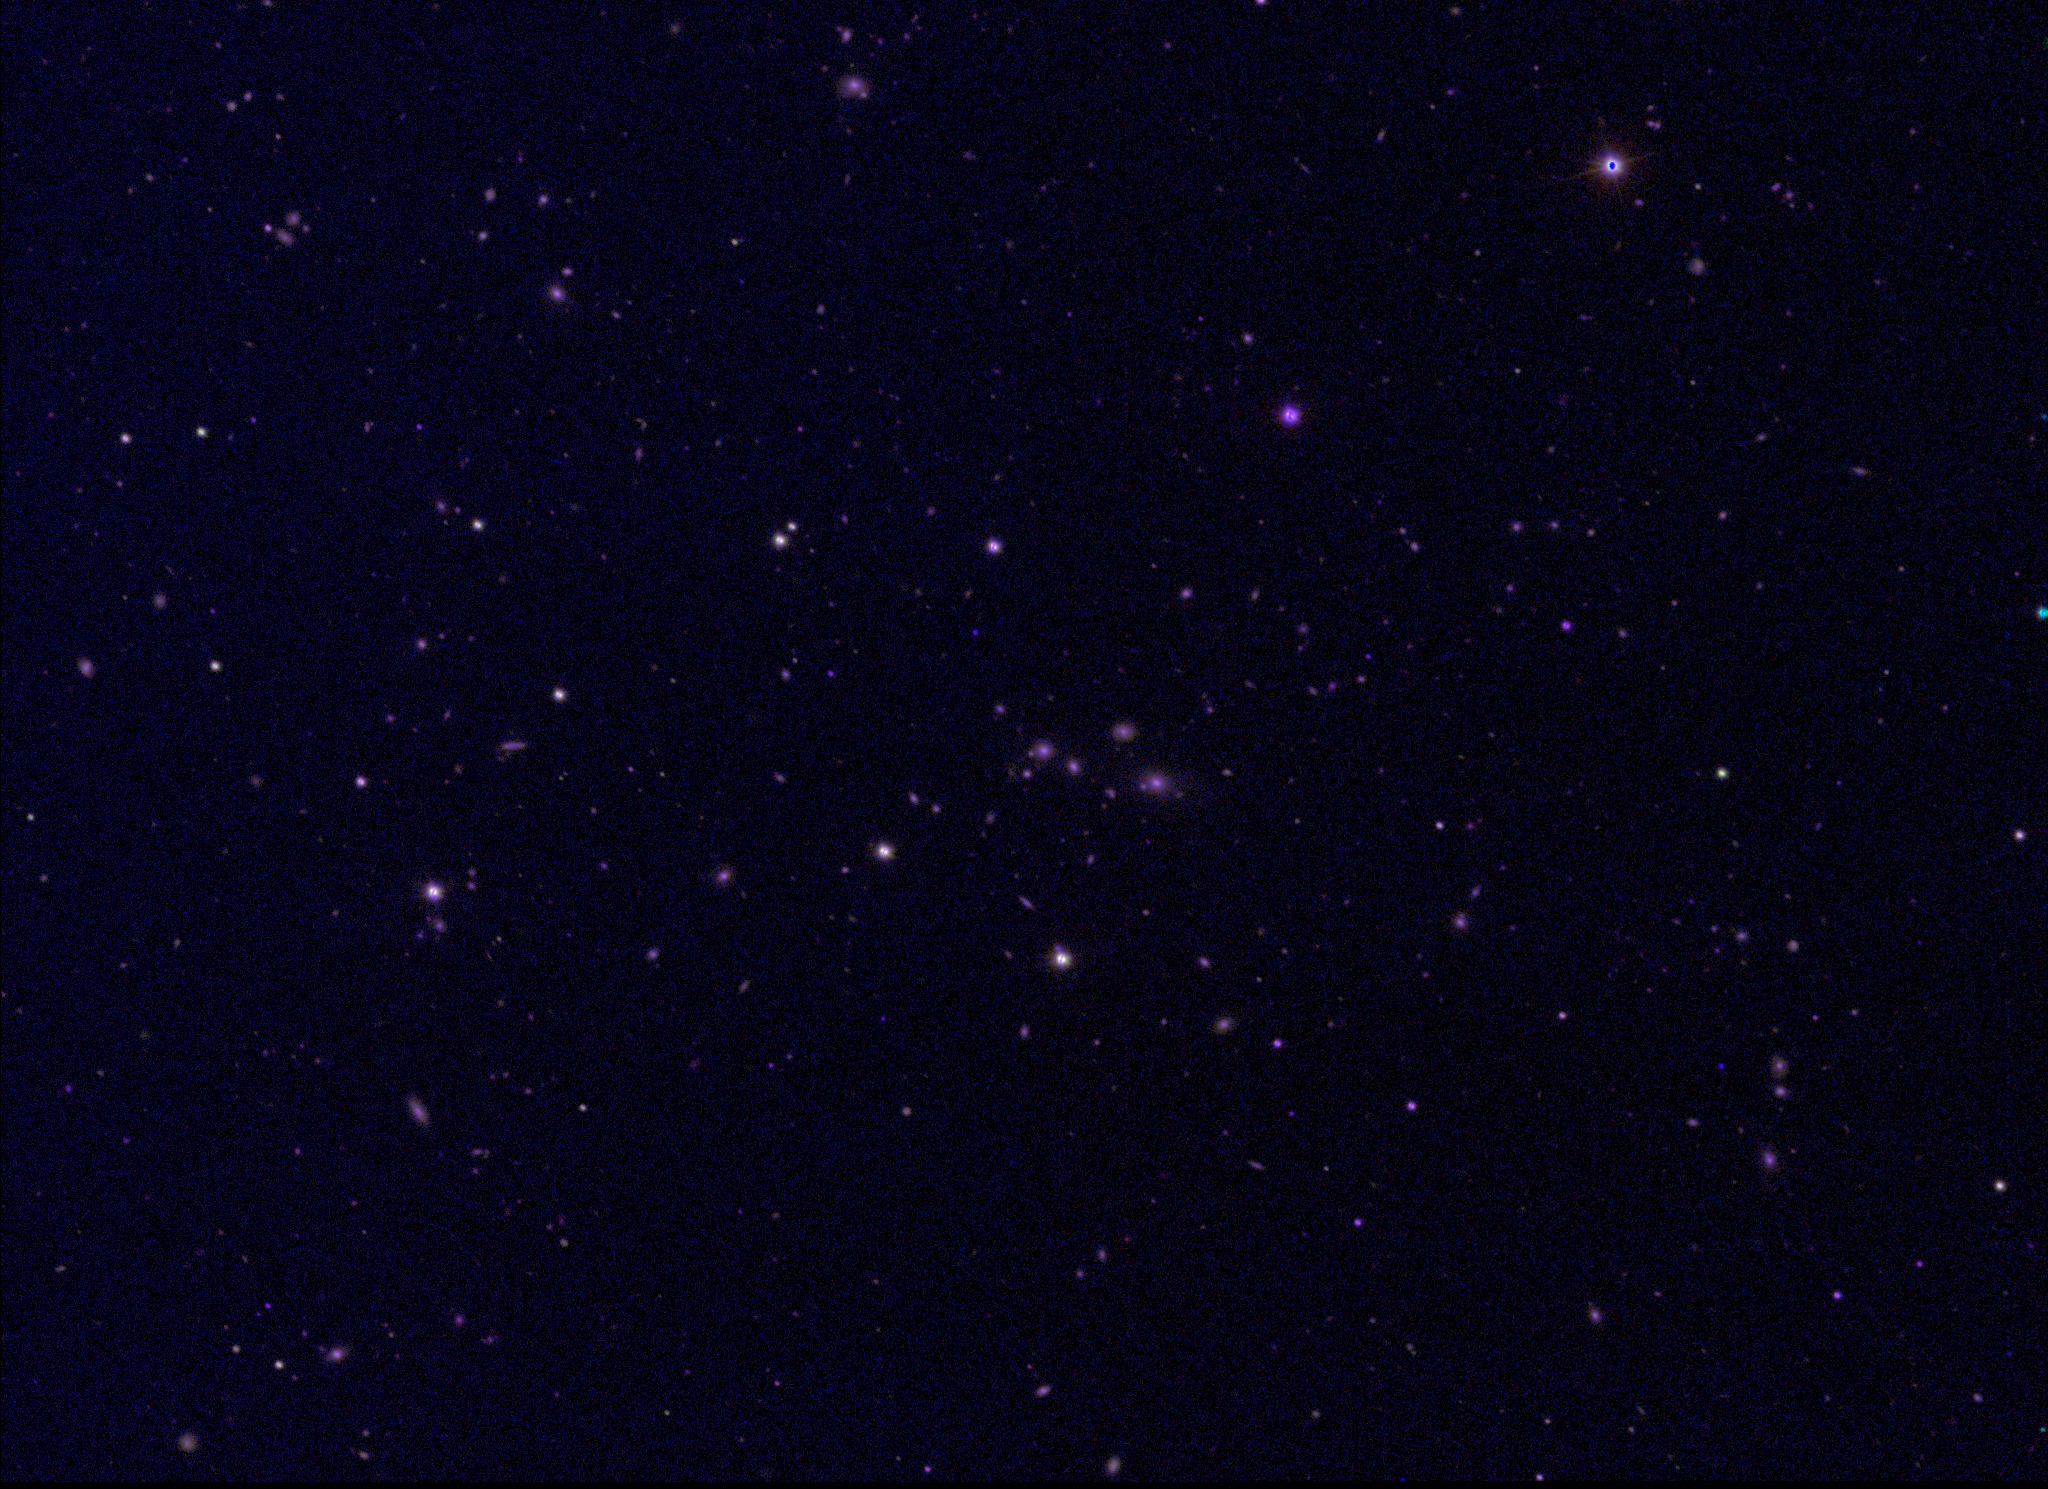L: (1714, 1059, 1728, 1072)
